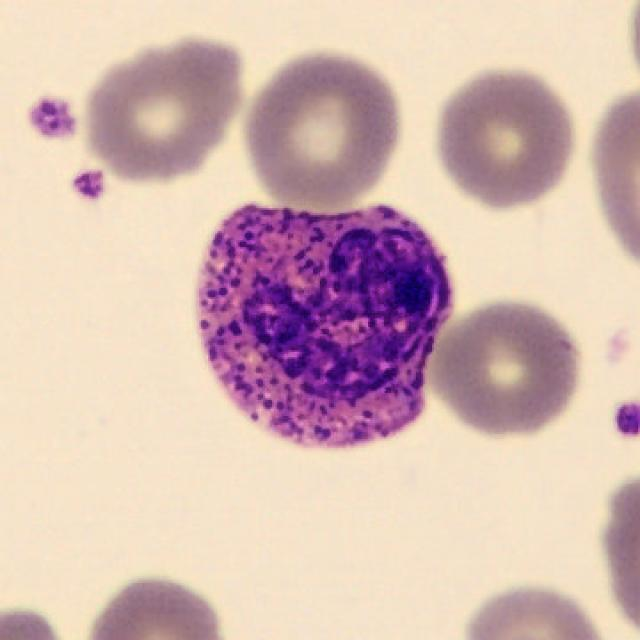Neutrofilo segmentado: (196, 206, 455, 452)
